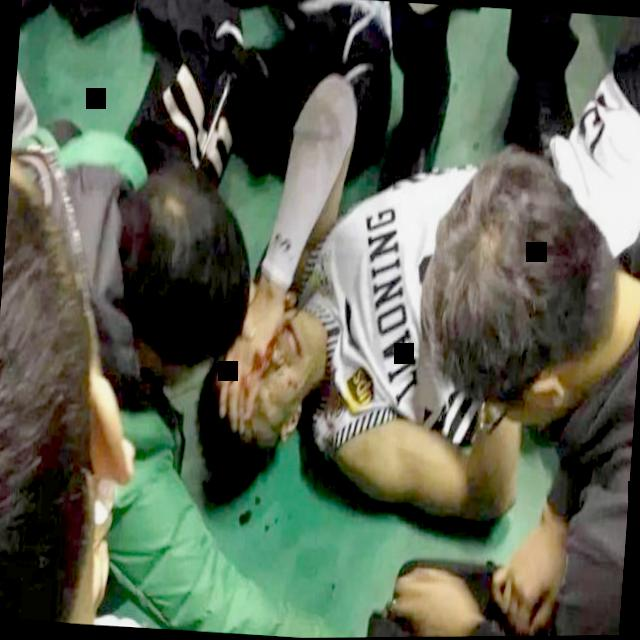Fall-Detected: (143, 74, 640, 569)
